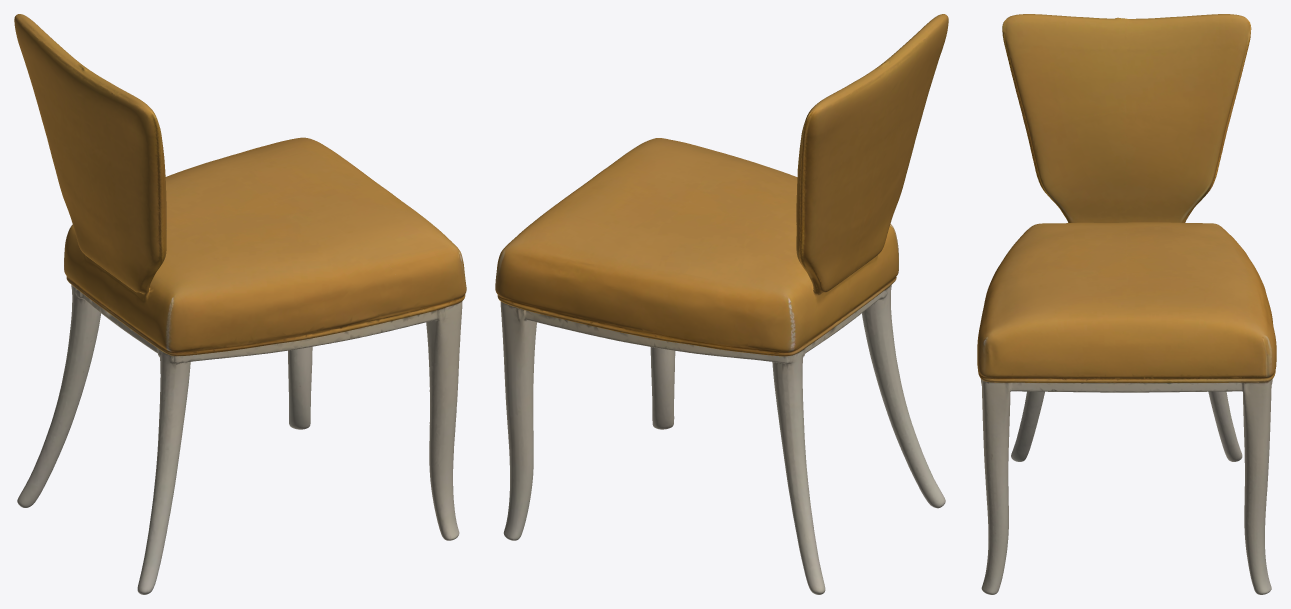
File: c02-stylized.glb
The picture shows the model from 3 angles, left to right: view 1: azimuth 30°, elevation 25°; view 2: azimuth 150°, elevation 25°; view 3: azimuth 270°, elevation 25°; orthographic projection. The views are drawn at different scales.
Parts seen in each view (by area): view 1: tripo_node_70bd7c6c-8976-4094-b192-04c9b8bb698a; view 2: tripo_node_70bd7c6c-8976-4094-b192-04c9b8bb698a; view 3: tripo_node_70bd7c6c-8976-4094-b192-04c9b8bb698a.
Part boxes in pixels (x1,y1,x2,y2): tripo_node_70bd7c6c-8976-4094-b192-04c9b8bb698a: [14, 14, 466, 594]; tripo_node_70bd7c6c-8976-4094-b192-04c9b8bb698a: [495, 14, 948, 594]; tripo_node_70bd7c6c-8976-4094-b192-04c9b8bb698a: [977, 14, 1276, 594].
Bounding box in the file's own units: 0.6749 × 1 × 0.6046.
1 material, 1 textured.
